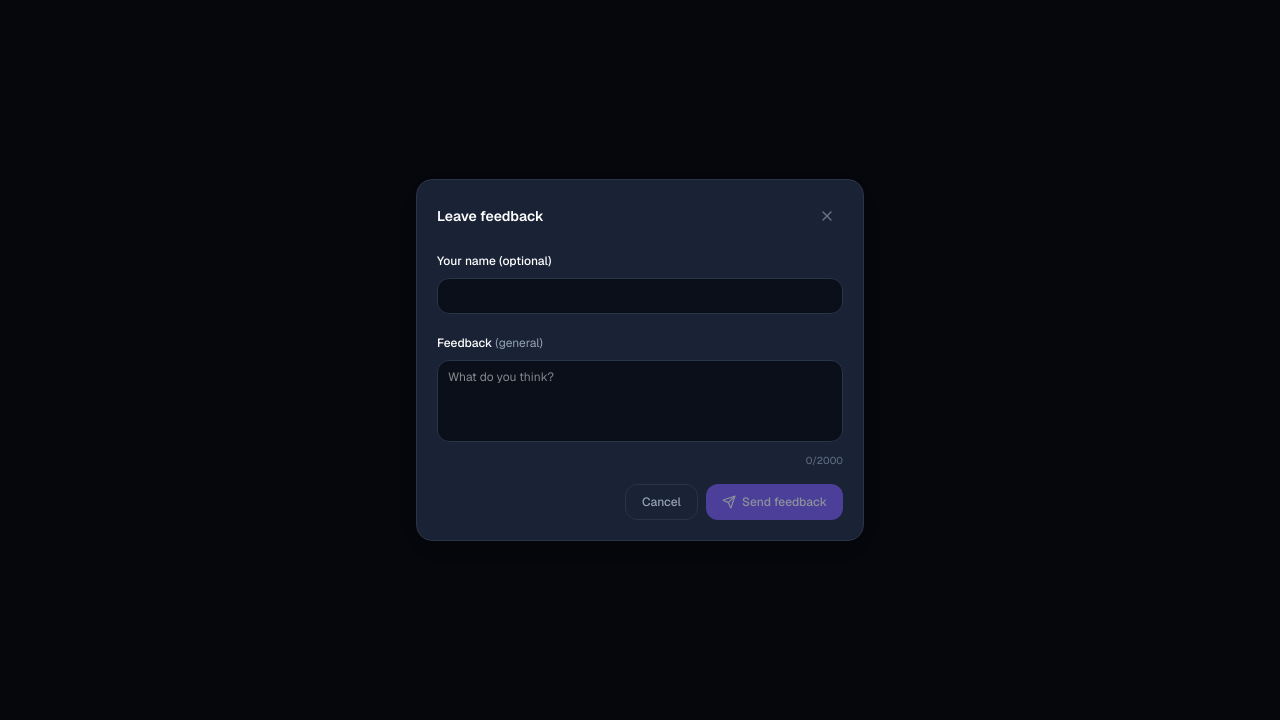
it: form › surfaces safe error copy on failure
The image size is (1280, 720).
Type "hello" into the text box with test id "feedback-body". click: [640, 401]
box: x1=437 y1=360 x2=843 y2=442
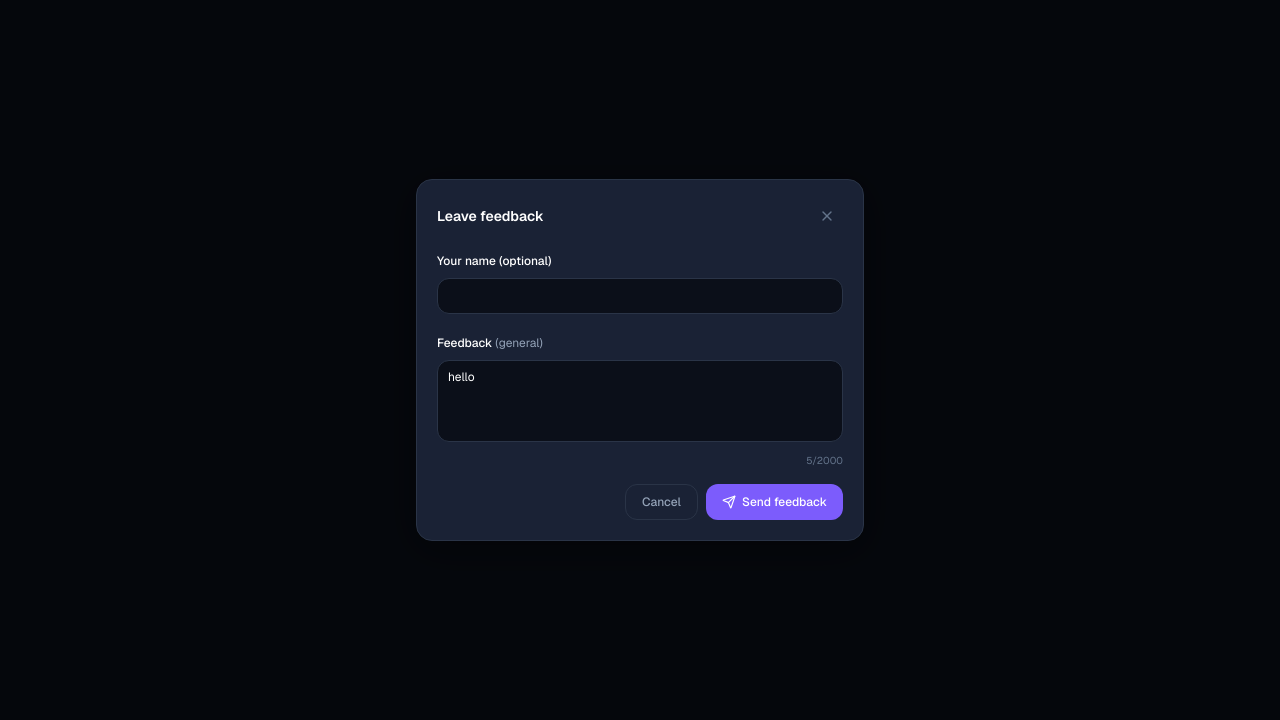
Click the button with test id "feedback-submit". click: [774, 502]
box: x1=706 y1=484 x2=843 y2=520
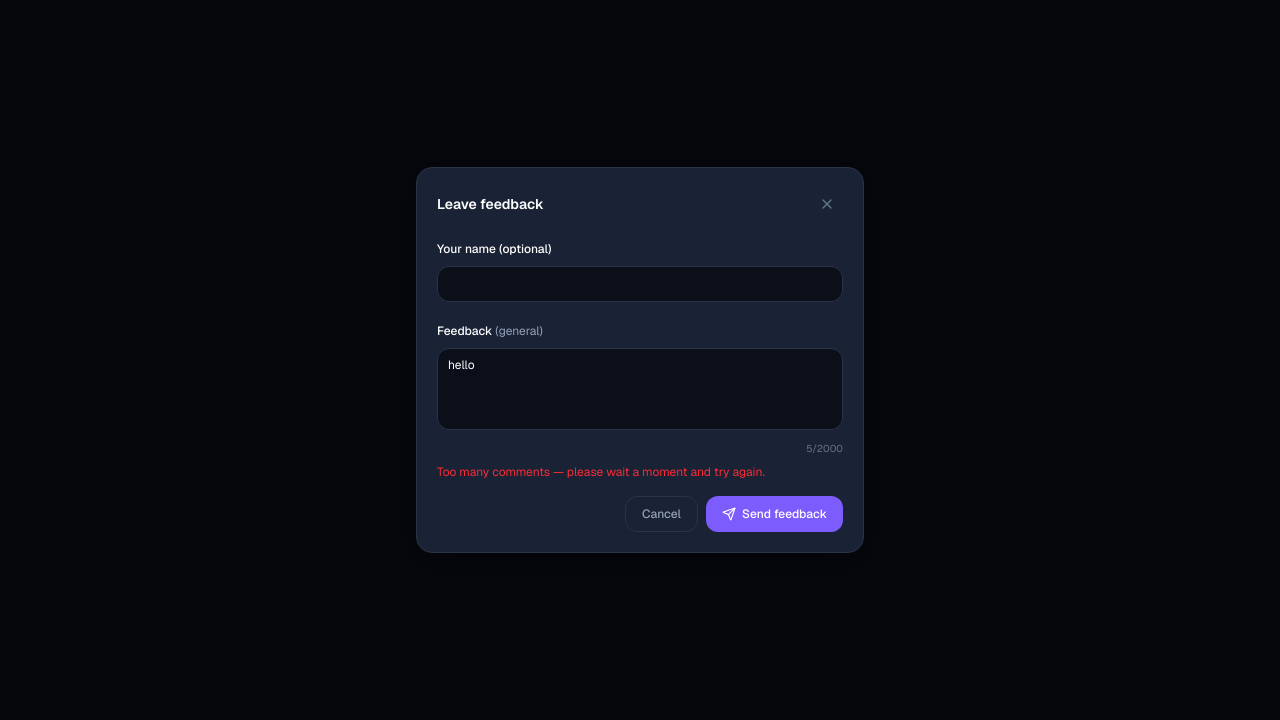
Expected: the message with test id "feedback-error" shows "Too many comments", x1=437 y1=464 x2=765 y2=480
